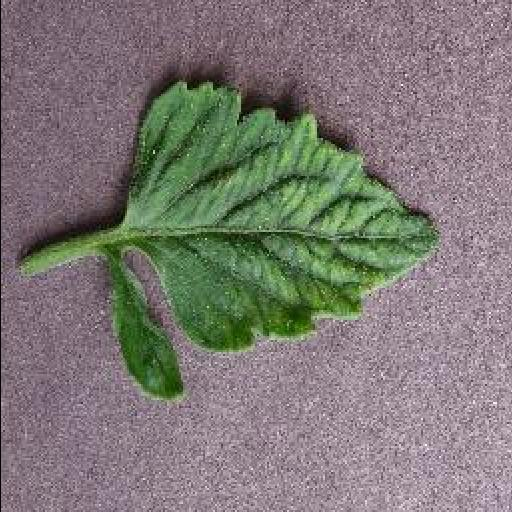disease_tomato: (106, 72, 444, 402)
